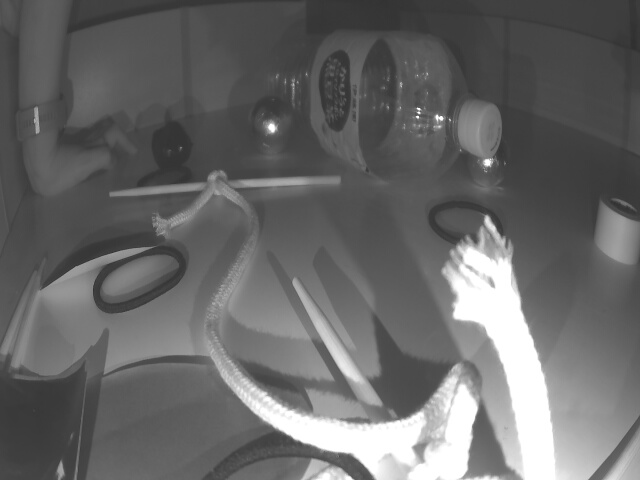Dead: (150, 123, 194, 167)
Live: (246, 92, 300, 160), (471, 132, 509, 189)
